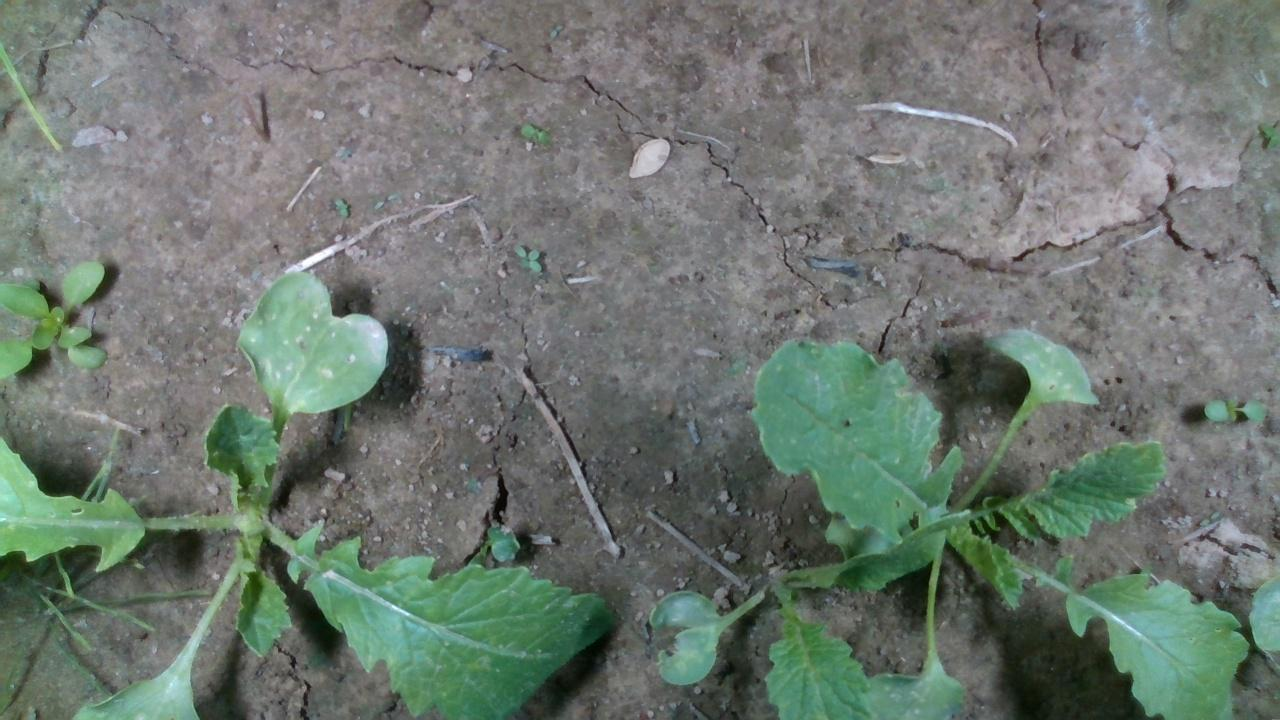weed: (1200, 396, 1266, 424), (511, 242, 541, 273), (519, 122, 551, 143), (332, 196, 350, 217)
